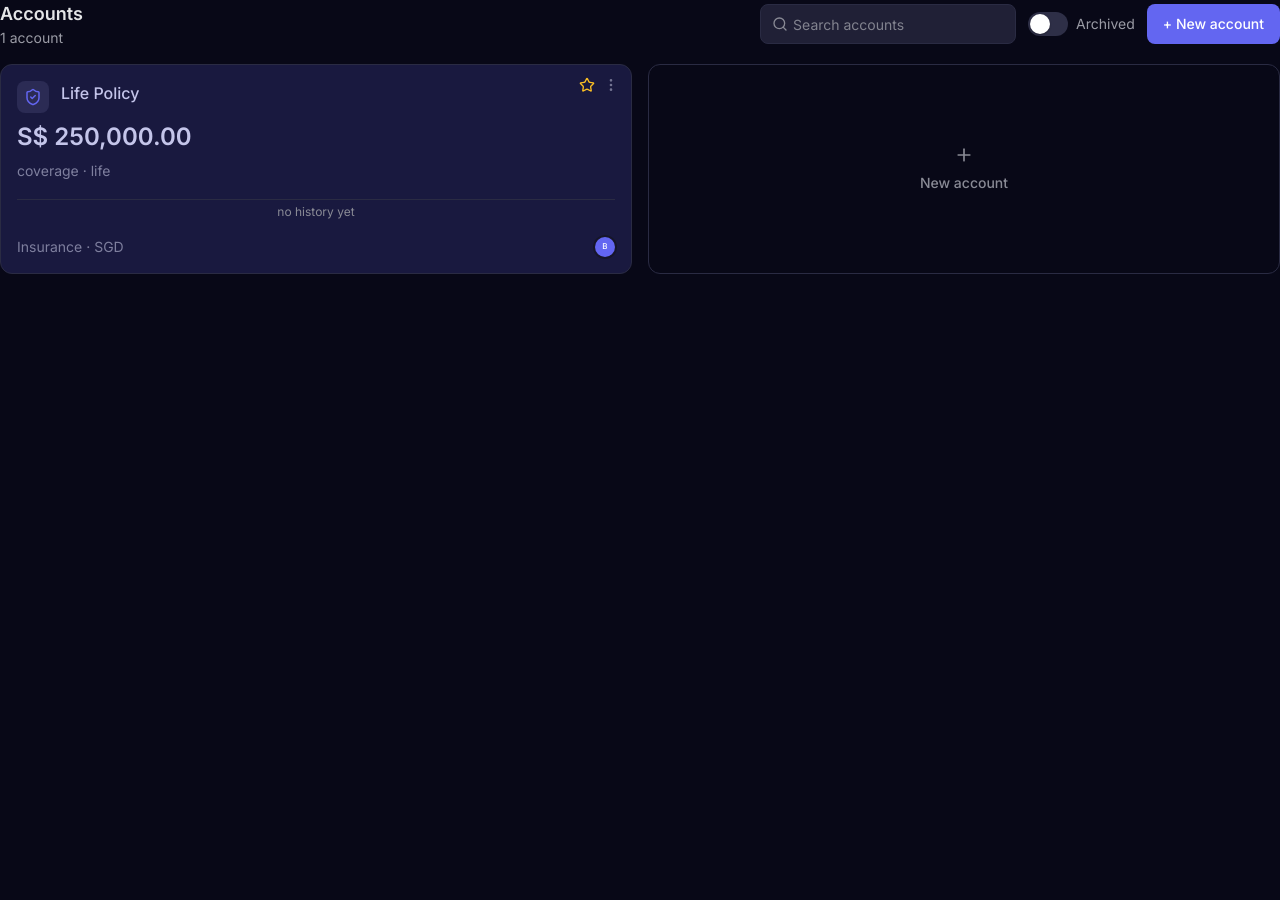
AccountsList › editing an insurance prefills policy type + coverage fields (AC4)
Expected: the text "Life Policy" is shown, [61,83,139,103]
Click the button named "Actions". click: x=603, y=77
box: [603,77,619,93]
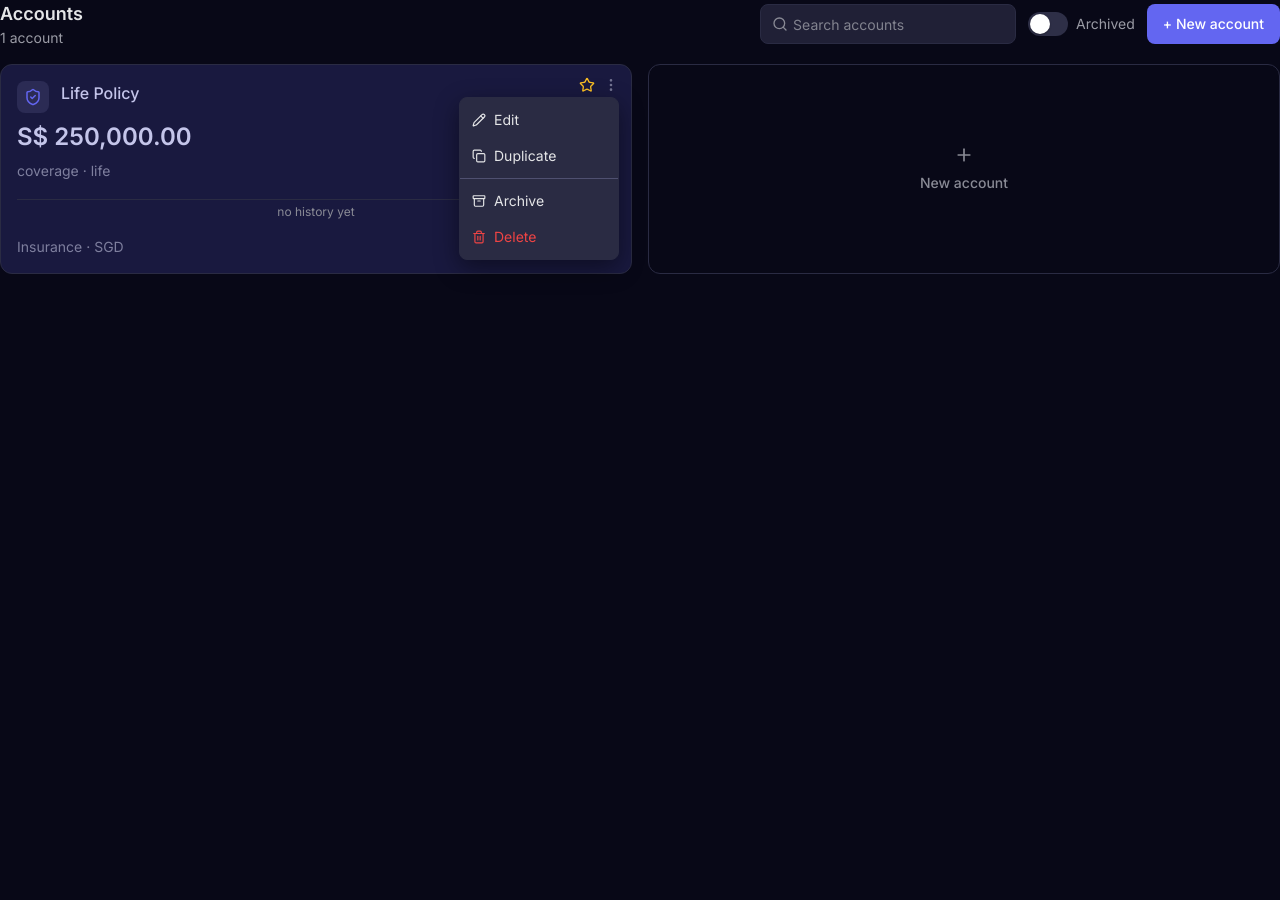
Click the menu item "Edit". click: x=539, y=120
box: [460,102,618,138]
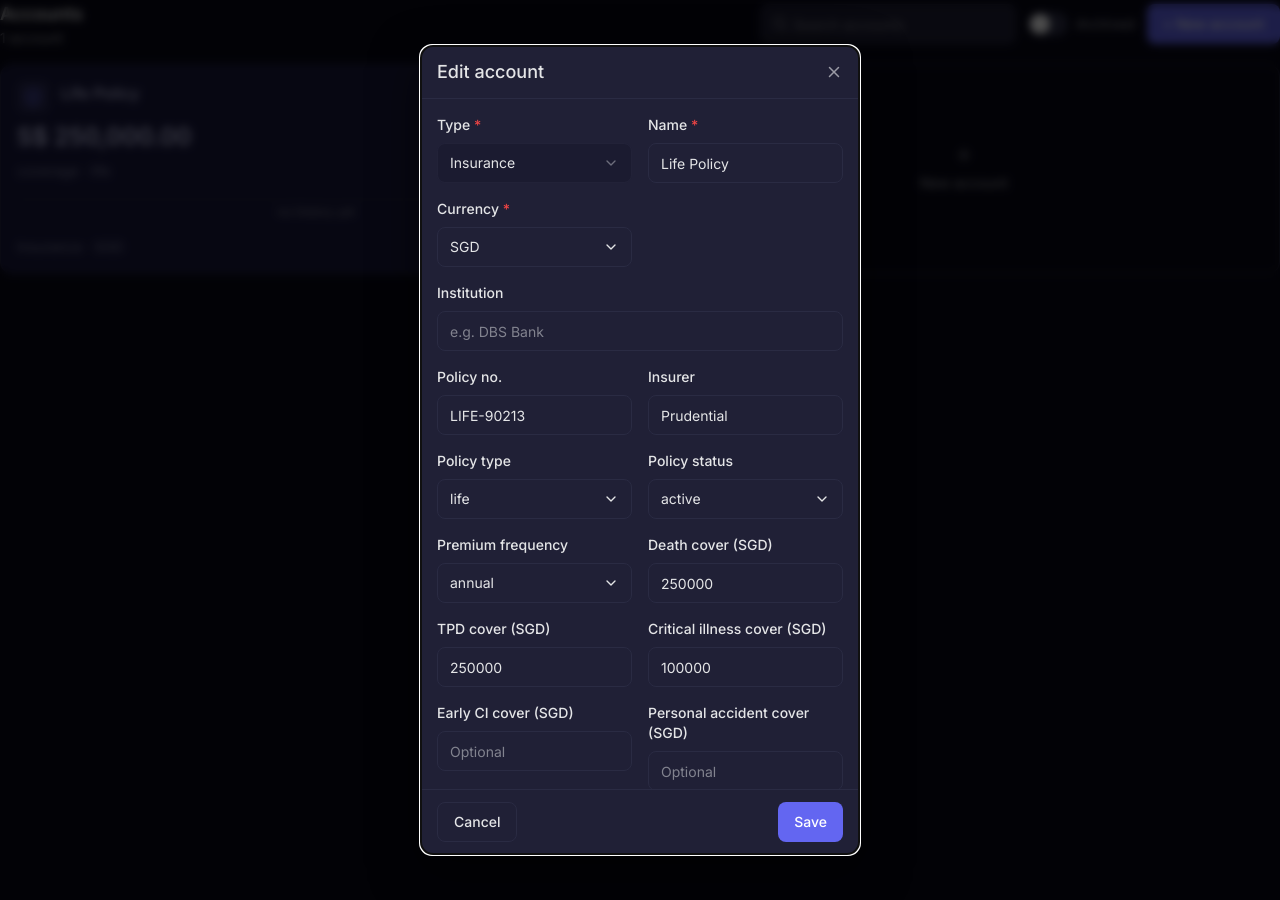
Now the button named "Policy type" reads "life", box [437,479,632,519]
Now the field labelled "Death cover (SGD)" holds "250000", box [648,563,843,603]
